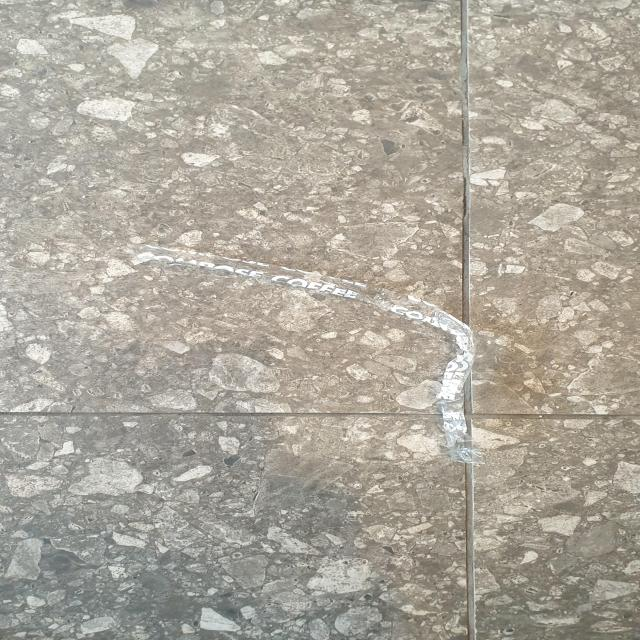litter: (126, 244, 482, 467)
